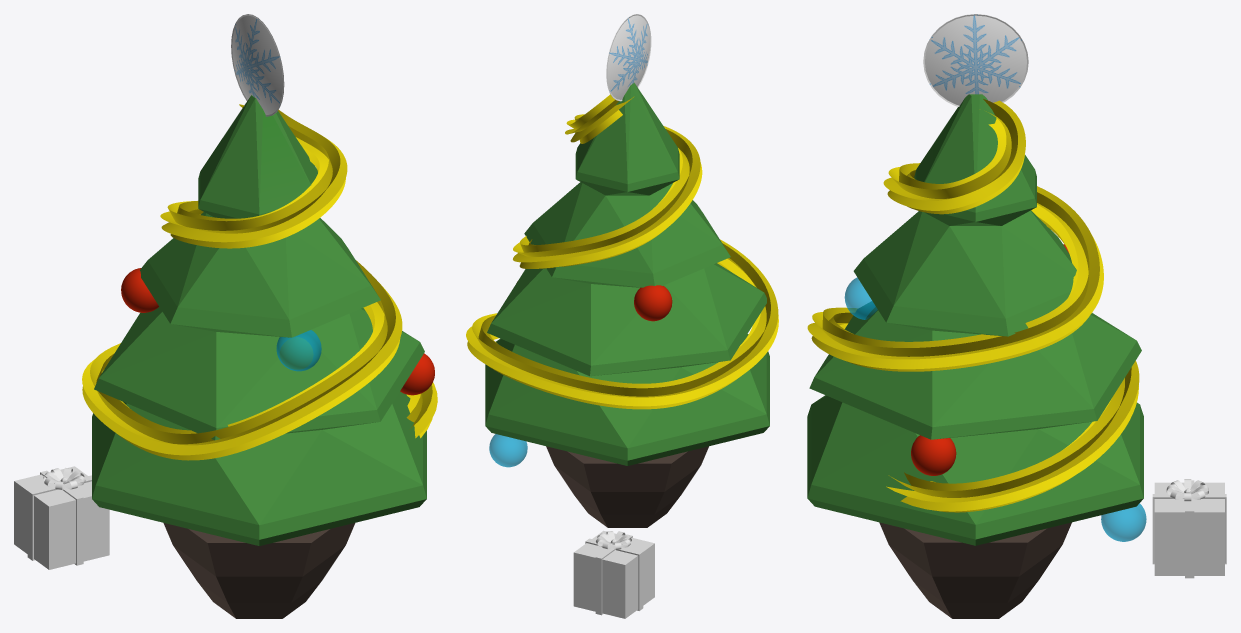
File: 1_3_Tree.fbx
3 renders of one model, left to right at view 1: azimuth 30°, elevation 25°; view 2: azimuth 150°, elevation 25°; view 3: azimuth 270°, elevation 25°, orthographic. The views are drawn at different scales.
Parts seen in each view (by area): view 1: Cylinder, NurbsPath, Cube, Cone, Bauble2, Bauble3, Bauble1, GiftRibbon; view 2: Cylinder, NurbsPath, Cube, Cone, Bauble3, Bauble4, GiftRibbon; view 3: Cylinder, NurbsPath, Cone, Cube, Bauble1, Bauble4, Bauble2, GiftRibbon.
Boxes of the visible parts, <box> form: Cylinder: <box>92,95,426,618</box>; NurbsPath: <box>82,104,437,460</box>; Cube: <box>14,466,109,569</box>; Cone: <box>231,14,284,116</box>; Bauble2: <box>276,330,321,371</box>; Bauble3: <box>121,268,158,312</box>; Bauble1: <box>400,353,434,395</box>; GiftRibbon: <box>43,468,85,489</box>; Cylinder: <box>485,82,769,527</box>; NurbsPath: <box>466,94,778,409</box>; Cube: <box>573,530,654,618</box>; Cone: <box>606,14,651,101</box>; Bauble3: <box>634,285,672,321</box>; Bauble4: <box>489,434,527,467</box>; GiftRibbon: <box>596,531,631,549</box>; Cylinder: <box>807,94,1143,618</box>; NurbsPath: <box>807,99,1139,512</box>; Cone: <box>923,14,1028,106</box>; Cube: <box>1152,480,1226,578</box>; Bauble1: <box>911,435,956,475</box>; Bauble4: <box>1101,503,1146,541</box>; Bauble2: <box>844,277,877,319</box>; GiftRibbon: <box>1166,479,1208,501</box>.
Size of the model in its own units: 1192 by 1116 by 1859.
Materials: 5 (1 with a texture image).
